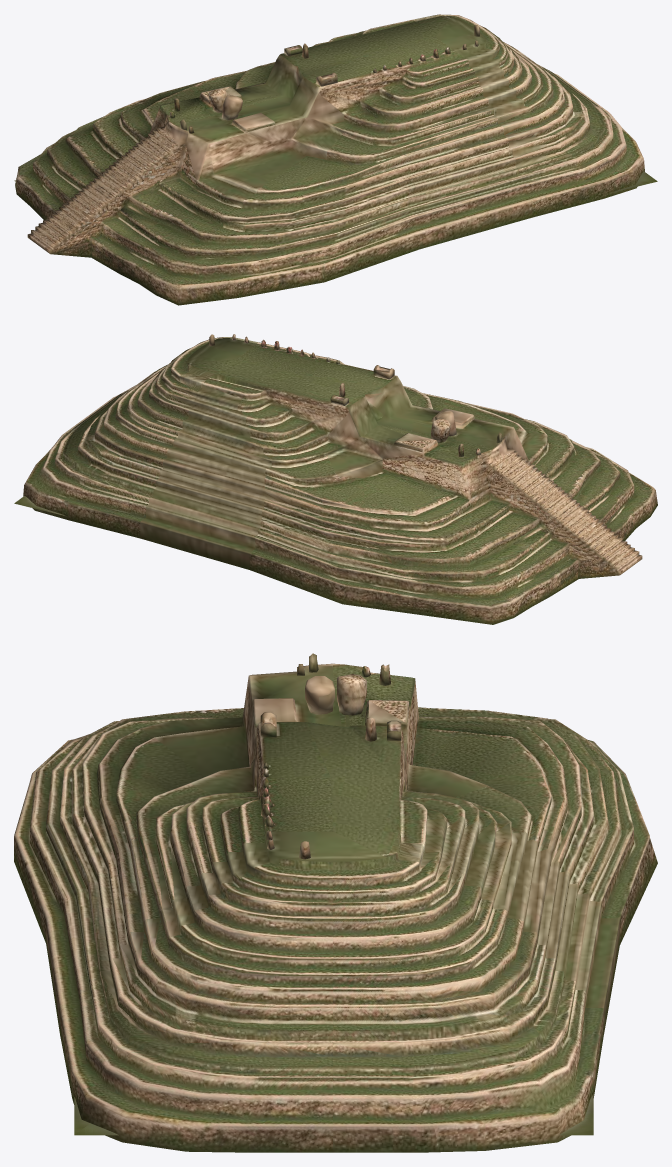
Rendered from jabar.glb.
The picture shows the model from 3 angles, top to bottom: view 1: azimuth 30°, elevation 25°; view 2: azimuth 150°, elevation 25°; view 3: azimuth 270°, elevation 25°; orthographic projection. The views are drawn at different scales.
Visible parts, largest first — view 1: tripo_node_590f54e7-7a87-4164-9ce2-6e61e4b3a860; view 2: tripo_node_590f54e7-7a87-4164-9ce2-6e61e4b3a860; view 3: tripo_node_590f54e7-7a87-4164-9ce2-6e61e4b3a860.
Part boxes in pixels (box(x1,y1,x2,y2)): tripo_node_590f54e7-7a87-4164-9ce2-6e61e4b3a860: box(14, 14, 657, 305); tripo_node_590f54e7-7a87-4164-9ce2-6e61e4b3a860: box(14, 334, 657, 624); tripo_node_590f54e7-7a87-4164-9ce2-6e61e4b3a860: box(14, 653, 657, 1152).
Bounding box in the file's own units: 0.998 × 0.2402 × 0.627.
Materials: 1 (1 with a texture image).
